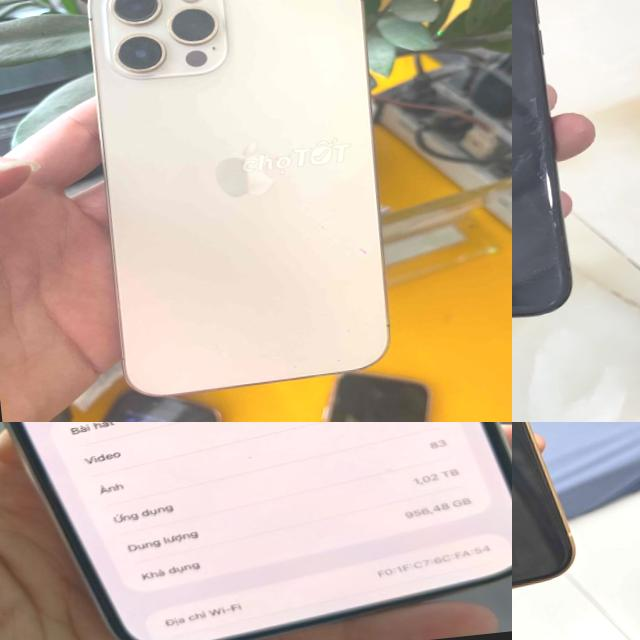scratch: (512, 39, 558, 256)
